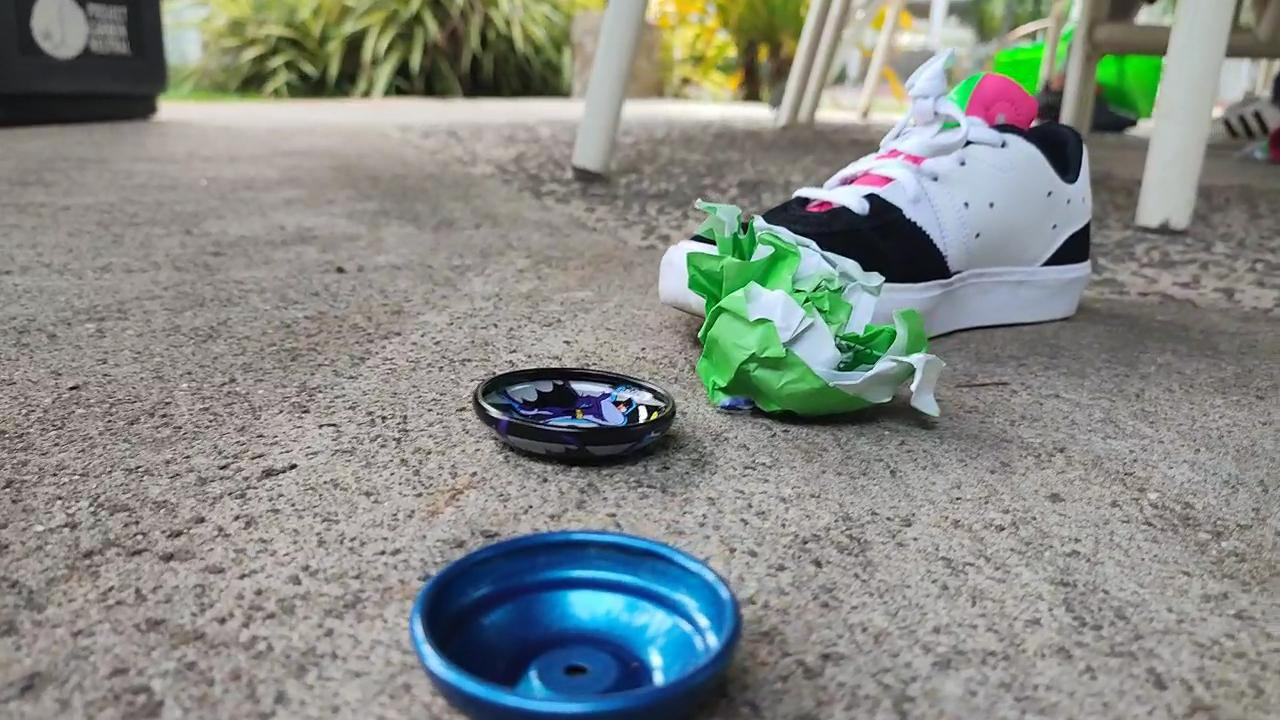Paper: (653, 194, 953, 447)
